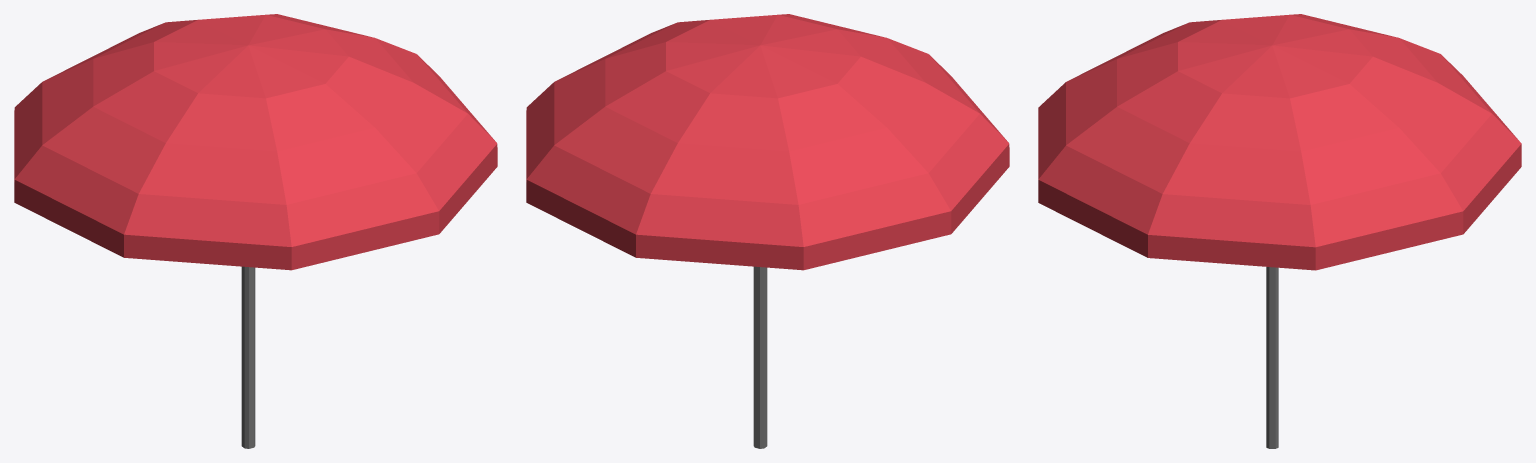
The model's file is Umbra01.fbx.
The picture shows the model from 3 angles, left to right: view 1: azimuth 30°, elevation 25°; view 2: azimuth 150°, elevation 25°; view 3: azimuth 270°, elevation 25°; orthographic projection.
Parts seen in each view (by area): view 1: Umbrella; view 2: Umbrella; view 3: Umbrella.
Boxes of the visible parts, x1=… form: Umbrella: x1=14, y1=14, x2=497, y2=448; Umbrella: x1=526, y1=14, x2=1009, y2=448; Umbrella: x1=1038, y1=14, x2=1521, y2=448.
Bounding box in the file's own units: 398 × 358 × 392.
